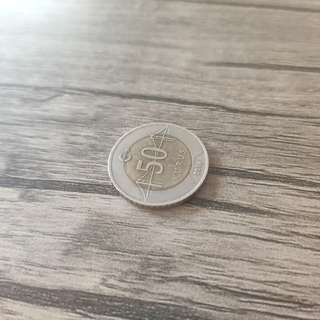50KURUS: (106, 120, 212, 211)
